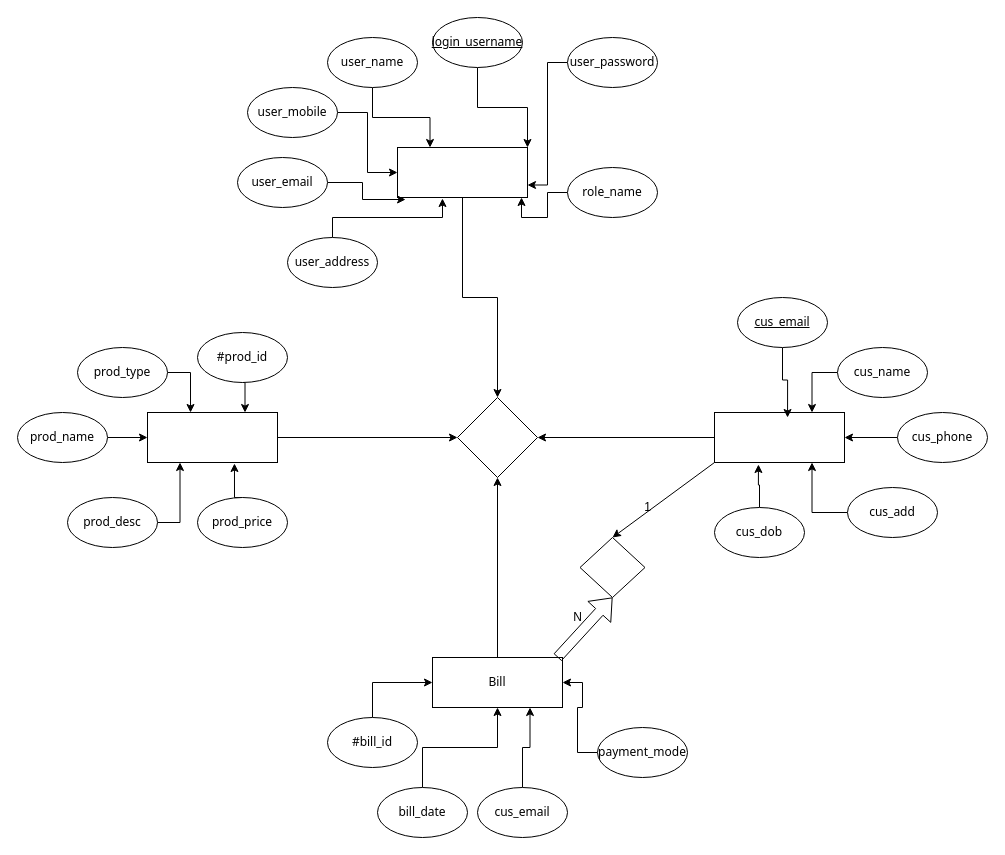
Image size: 1005x855. Some labels were removed from this diagram. The centre of each missing label's shape, as x and y in pixels:
"Customer" belongs at [779,437].
"Issues" belongs at [612,567].
"Product" belongs at [212,437].
"Purchase" belongs at [497,437].
"User" belongs at [462,172].
